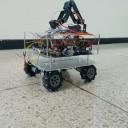cart: (23, 30, 101, 92)
